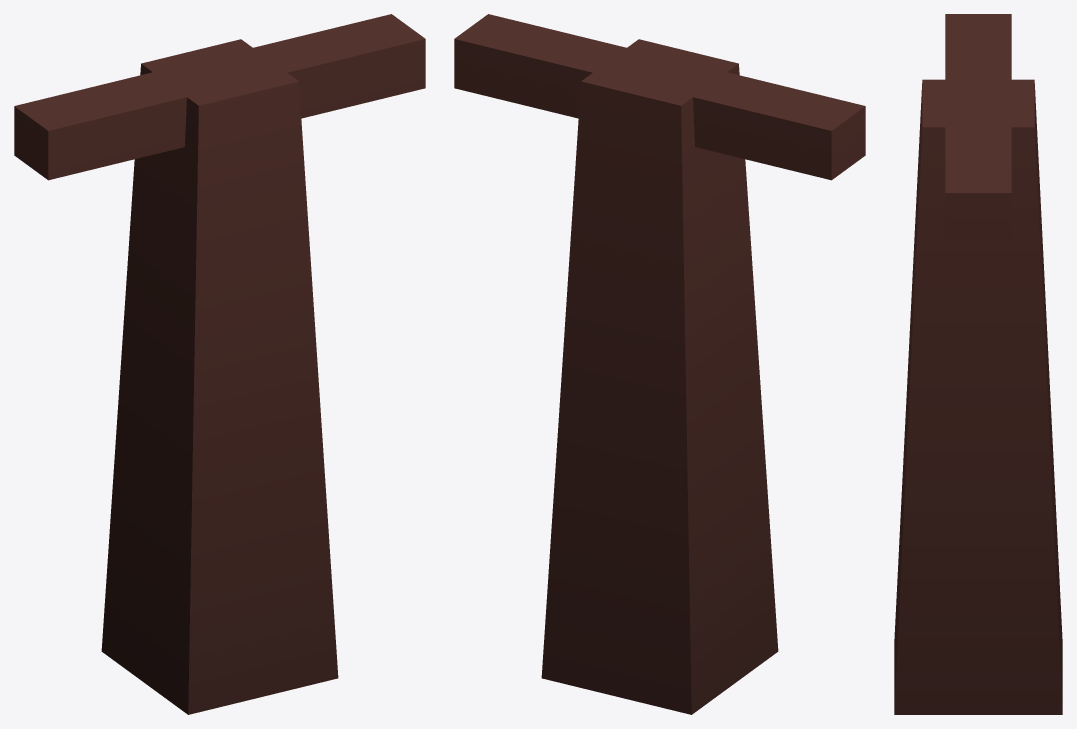
The model's file is train-stop.glb.
3 renders of one model, left to right at view 1: azimuth 30°, elevation 25°; view 2: azimuth 150°, elevation 25°; view 3: azimuth 270°, elevation 25°, orthographic. The views are drawn at different scales.
Parts seen in each view (by area): view 1: train-stop; view 2: train-stop; view 3: train-stop.
Part boxes in pixels (box(x1,y1,x2,y2)): train-stop: box(14, 14, 425, 714); train-stop: box(454, 14, 865, 714); train-stop: box(894, 14, 1062, 714).
Size of the model in its own units: 0.16 by 0.24 by 0.0636.
